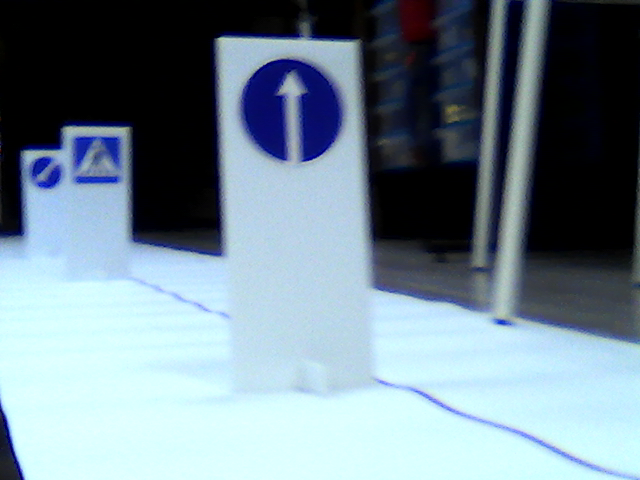forw: (239, 58, 340, 165)
pesh: (73, 133, 127, 185)
prep: (29, 157, 63, 189)
